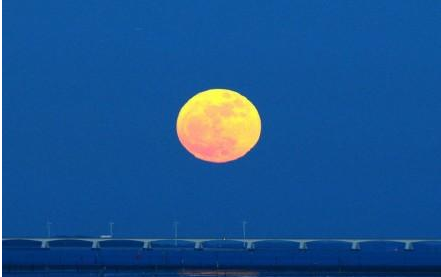moon: (175, 87, 261, 163)
